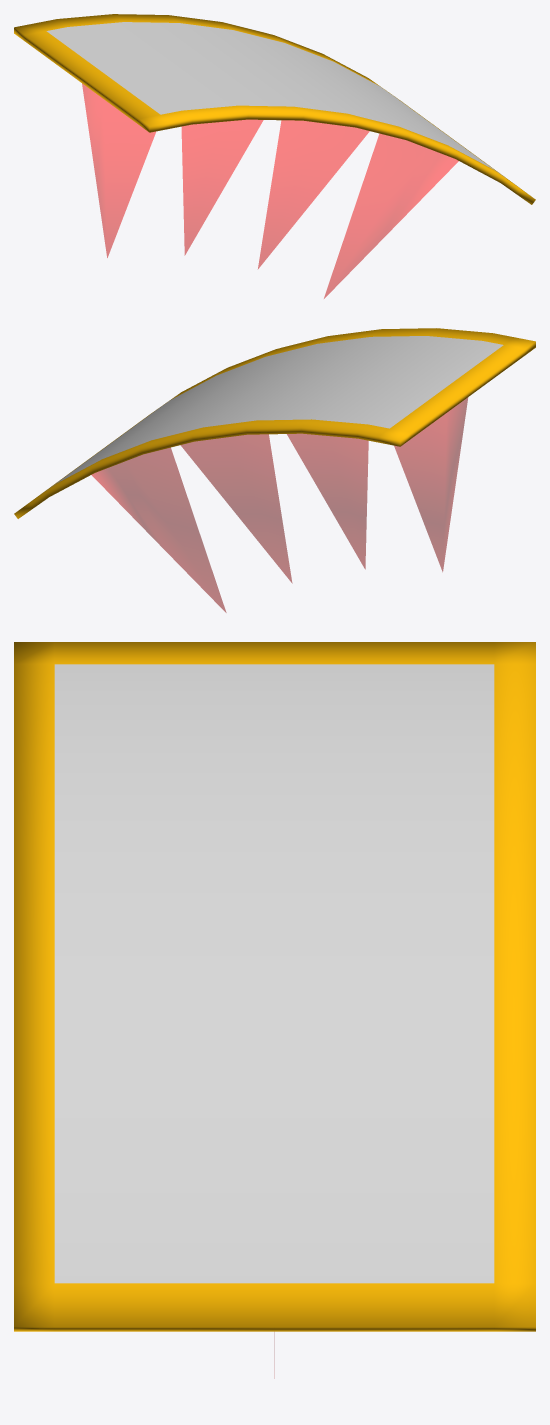
File: FlickNote01.fbx
3 views of the same model, one above another, from view 1: azimuth 30°, elevation 25°; view 2: azimuth 150°, elevation 25°; view 3: azimuth 270°, elevation 25° (orthographic). The views are drawn at different scales.
Parts seen in each view (by area): view 1: FlickNote01; view 2: FlickNote01; view 3: FlickNote01.
Boxes of the visible parts, x1,y1,x2,y2 form: FlickNote01: [14, 14, 535, 298]; FlickNote01: [14, 328, 535, 612]; FlickNote01: [14, 642, 535, 1378].
Bounding box in the file's own units: 65.8 × 40 × 45.85.
